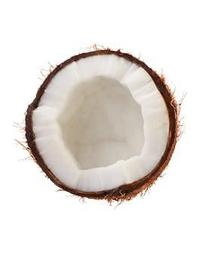coconut: (23, 50, 178, 199)
